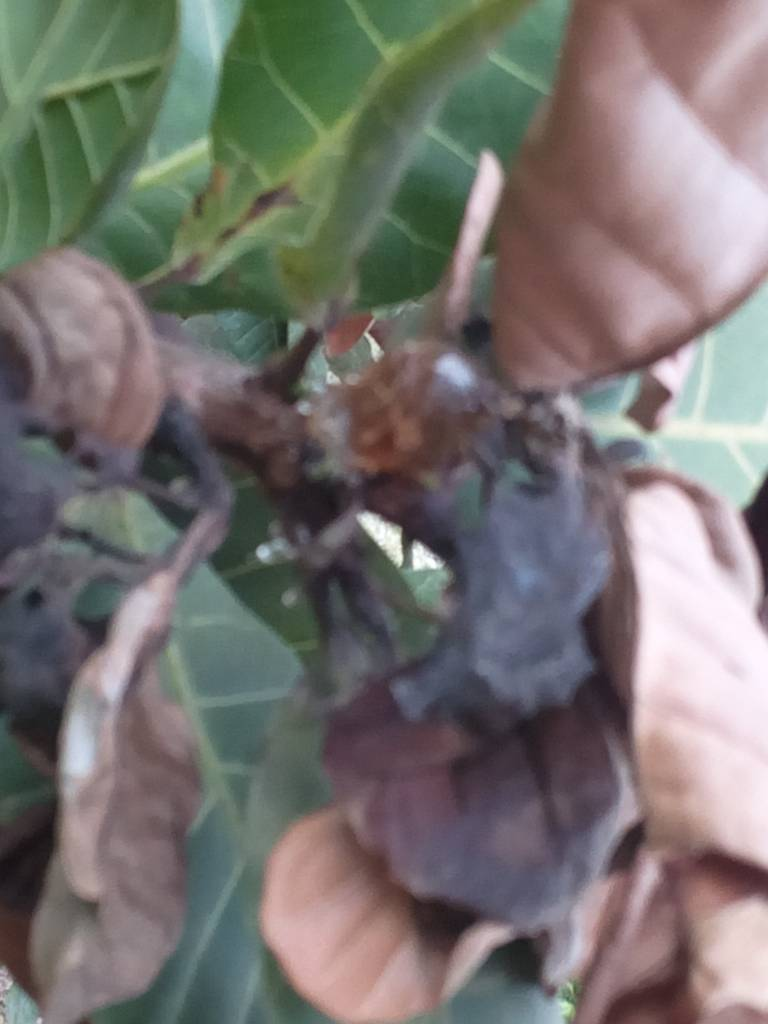Die-black: (319, 652, 664, 938), (445, 456, 617, 714)
